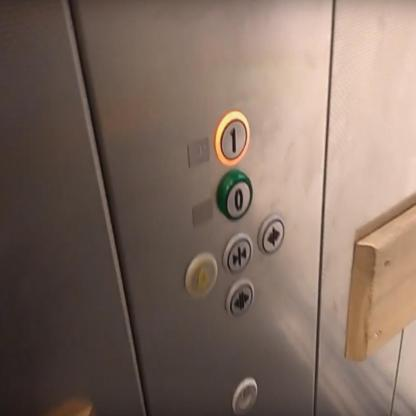0: (215, 168, 253, 221)
1: (214, 109, 250, 167)
alarm: (184, 251, 218, 300)
close: (222, 232, 253, 274)
keyhole: (232, 375, 258, 416)
open: (257, 211, 287, 257), (224, 278, 256, 318)
